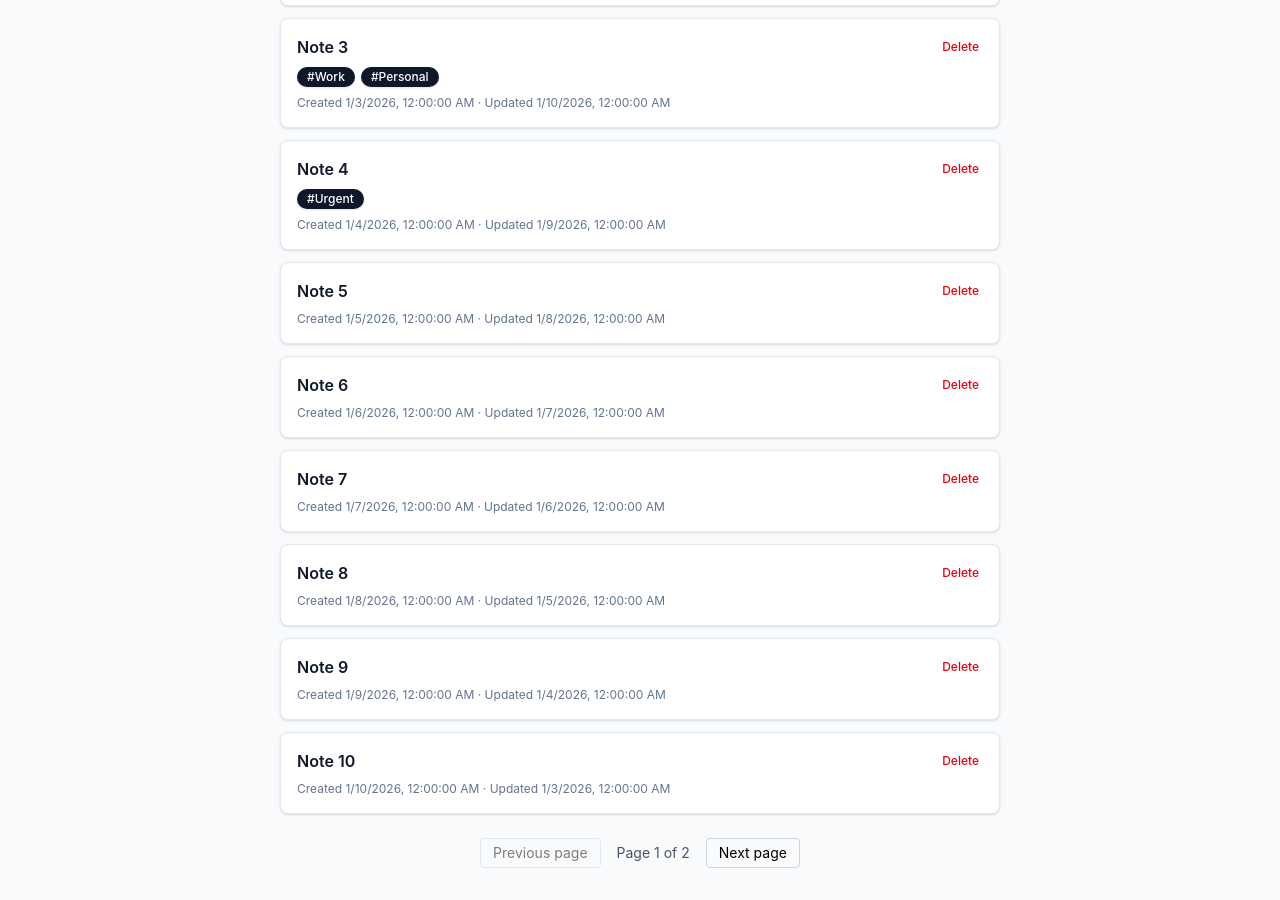
Test case: NotesListPage › Changing page displays the corresponding notes
(page scrolled)
Click the button "Next page" at {"x": 753, "y": 853}, box [706, 838, 800, 868]
(page scrolled)
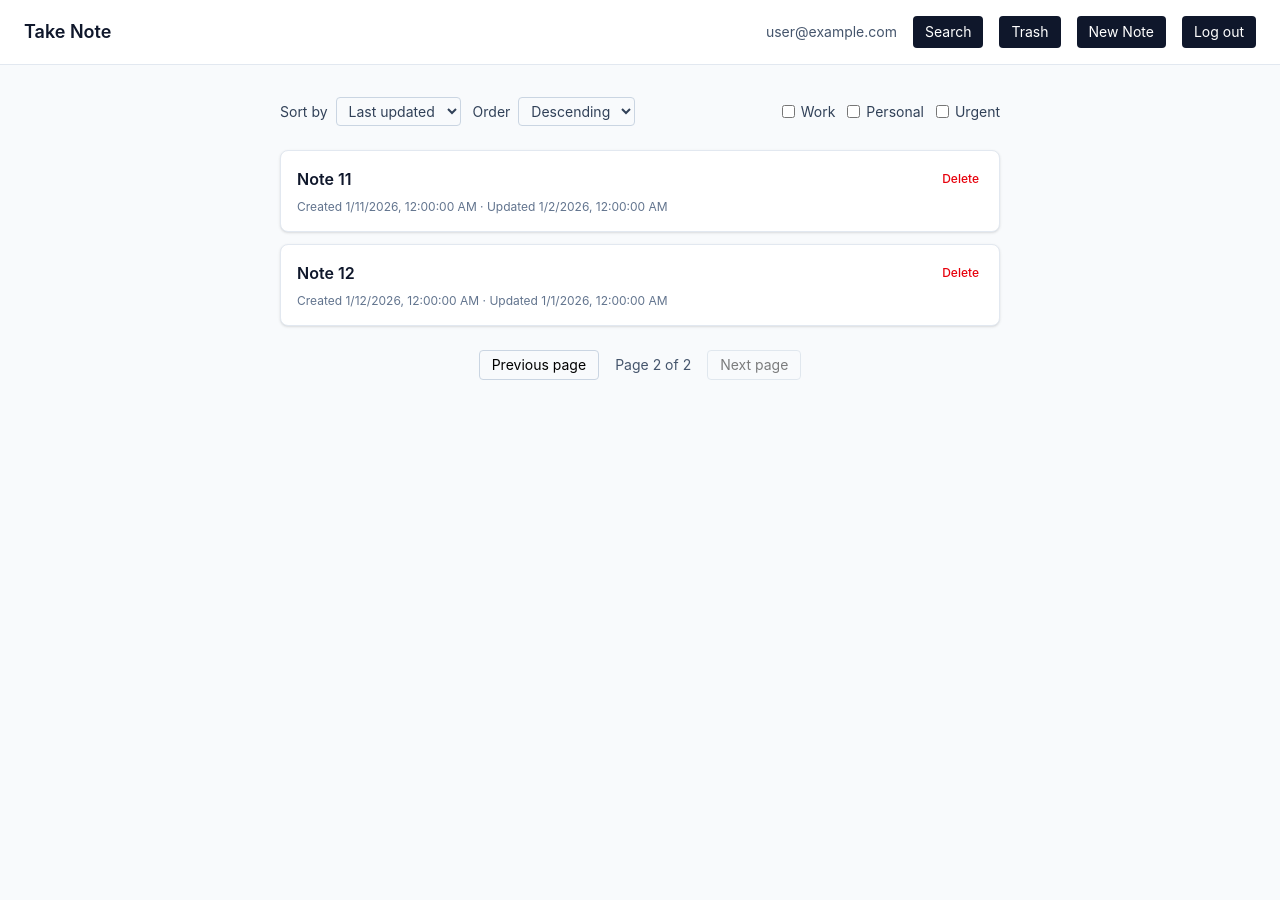
Result: the heading "Note 11" is shown at [297, 169, 351, 189]
Result: the heading "Note 12" is shown at [297, 263, 355, 283]
Result: the text "Page 2 of 2" is shown at [615, 355, 691, 375]
Click the button "Previous page" at {"x": 539, "y": 365}, box [479, 350, 599, 380]
(page scrolled)
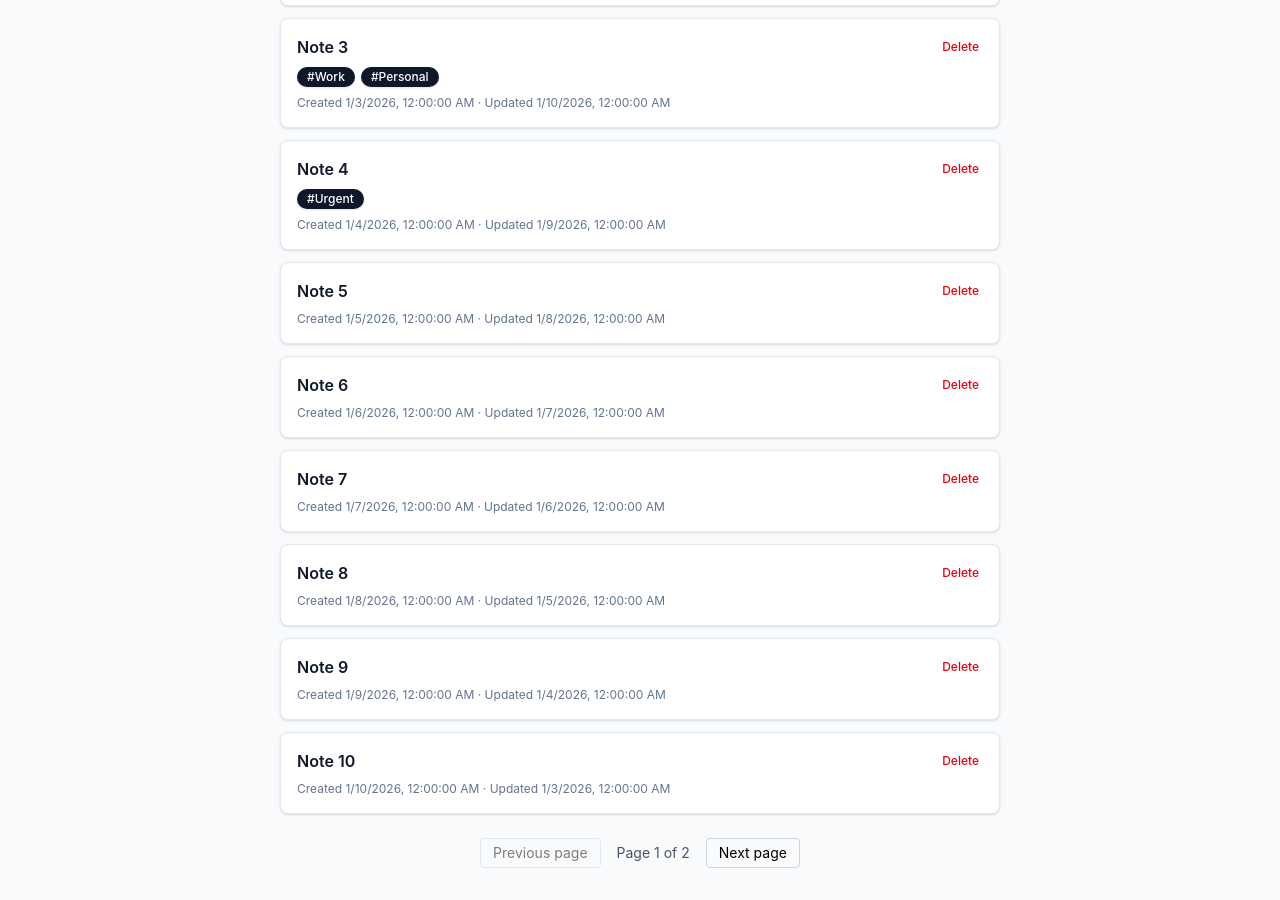
Result: the text "Page 1 of 2" is shown at [616, 843, 690, 863]
